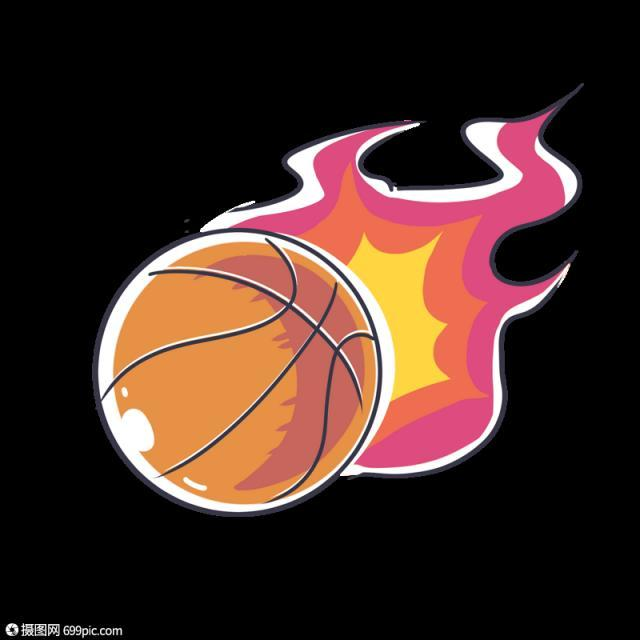rim: (92, 230, 388, 520)
